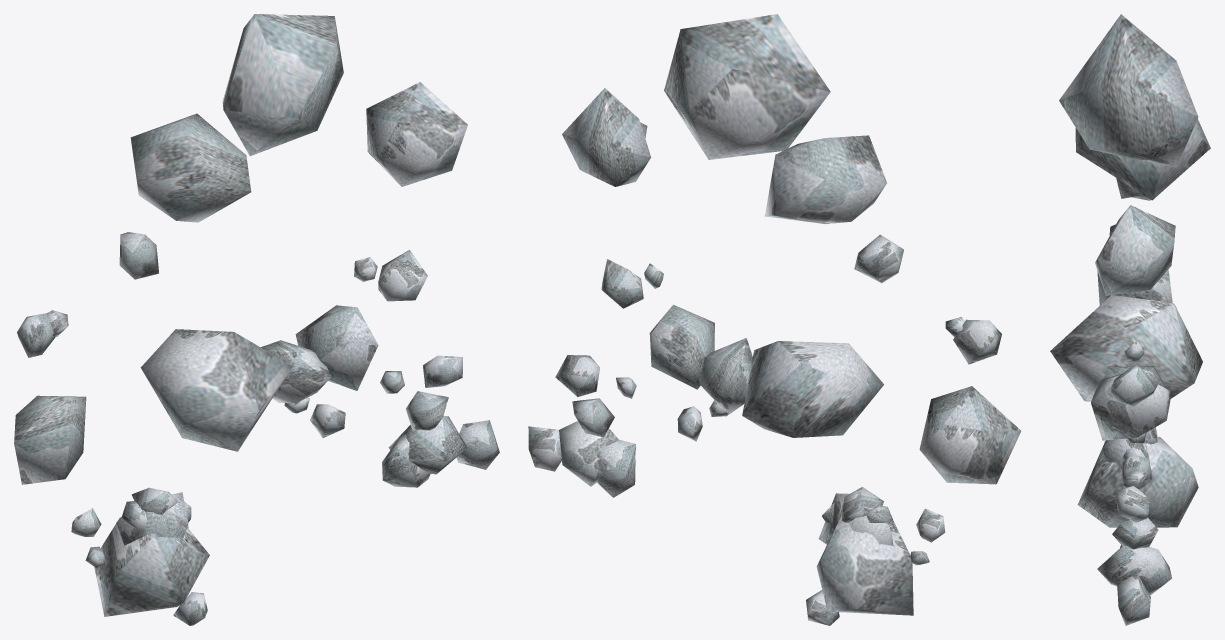
The model's file is detailmesh_rocks.FBX.
3 renders of one model, left to right at view 1: azimuth 30°, elevation 25°; view 2: azimuth 150°, elevation 25°; view 3: azimuth 270°, elevation 25°, orthographic. The views are drawn at different scales.
Parts seen in each view (by area): view 1: rocks_mesh; view 2: rocks_mesh; view 3: rocks_mesh.
Part boxes in pixels (bbox=[...]): rocks_mesh: bbox=[14, 14, 499, 625]; rocks_mesh: bbox=[528, 14, 1021, 625]; rocks_mesh: bbox=[1050, 14, 1210, 625].
Bounding box in the file's own units: 251 × 292 × 72.87.
Materials: 1 (1 with a texture image).
